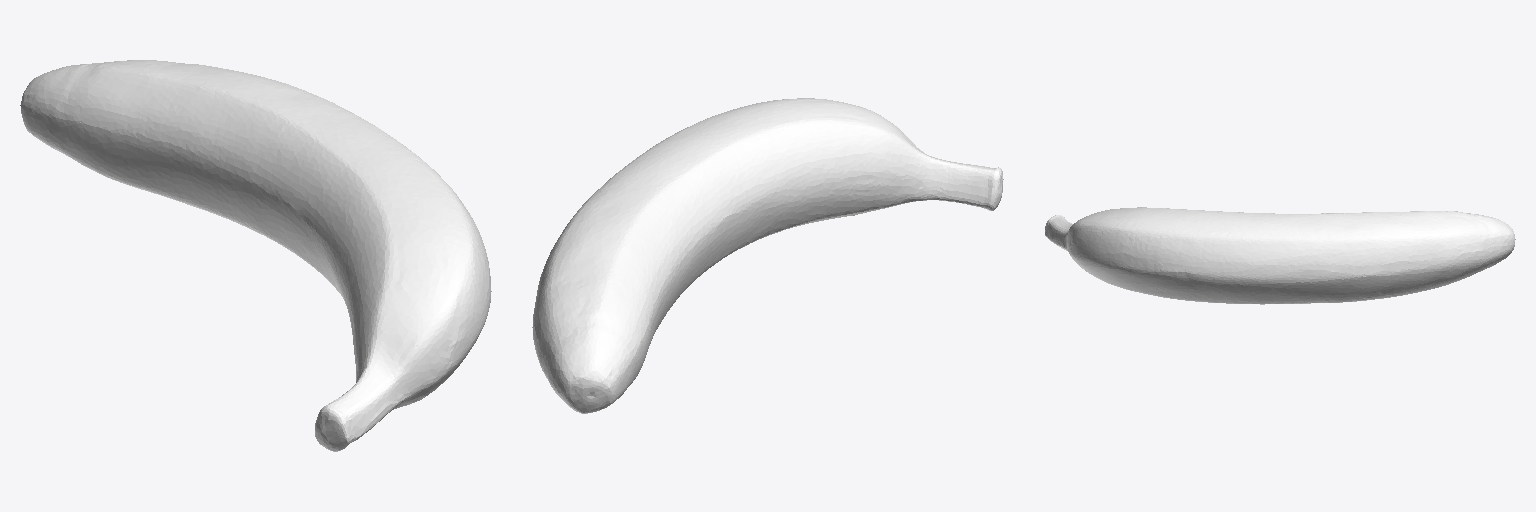
The robot description file, URDF, robot "011_banana":
<?xml version="1.0"?>
<robot name="011_banana">
	<link name="_name">
		<visual>
			<origin rpy="0 0 0" xyz="0 0 0" />
			<geometry>
				<mesh filename="011_banana/google_16k/textured.obj" scale="1 1 1" />
			</geometry>
			<material name="texture">
				<color rgba="1.0 1.0 1.0 1.0" />
			</material>
		</visual>
		<collision>
			<origin rpy="0 0 0" xyz="0 0 0" />
			<geometry>
				<mesh filename="011_banana/google_16k/textured_vhacd.obj" scale="1 1 1" />
			</geometry>
		</collision>
		<inertial>
			<origin rpy="0 0 0" xyz="0 0 0" />
			<mass value="0.066" />
			<inertia ixx="1.0" ixy="0.0" ixz="0.0" iyy="1.0" iyz="0.0" izz="1.0" />
		</inertial>
	</link>
</robot>

--- Render facts (derived) ---
Views: 3 orthographic renders of the robot side by side, from view 1: azimuth 30°, elevation 25°; view 2: azimuth 150°, elevation 25°; view 3: azimuth 270°, elevation 25°.
Robot: 011_banana — 1 links, 0 joints (none); root link _name; default pose: every joint at zero.
Links seen in each view (by area): view 1: _name; view 2: _name; view 3: _name.
Link boxes in pixels (left/top/right/bottom): _name: left=20, top=60, right=491, bottom=451; _name: left=532, top=98, right=1003, bottom=413; _name: left=1045, top=207, right=1515, bottom=304.
Bounding box of the posed robot: 0.0779 × 0.1958 × 0.0367 m (x, y, z).
1 mesh visuals loaded from 1 distinct referenced files (1 OBJ).
